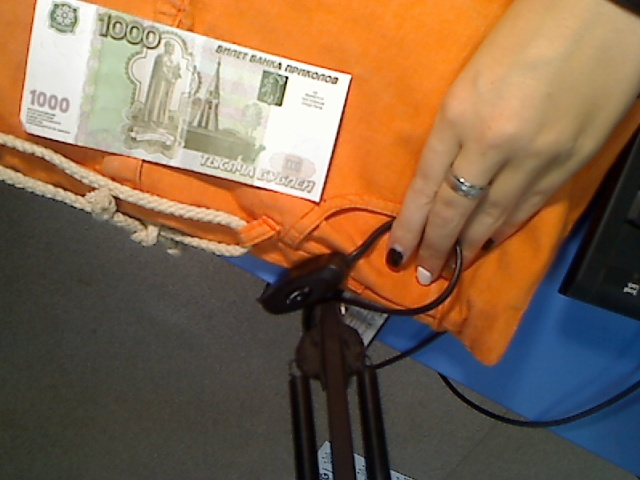banknotes: (17, 1, 355, 205)
